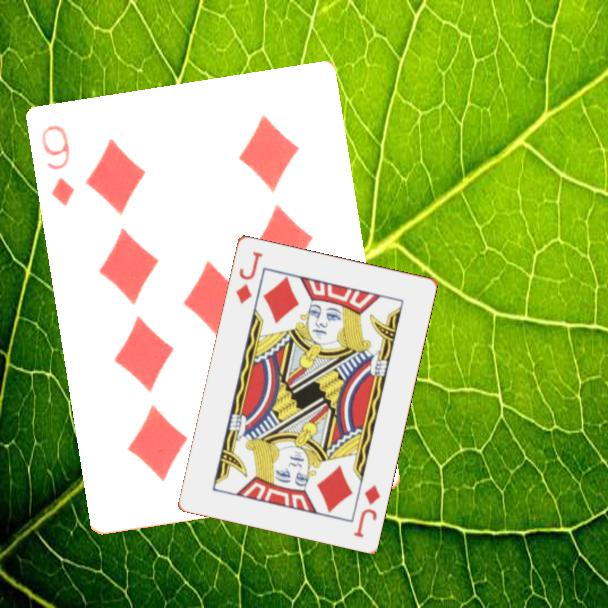d09: (38, 122, 78, 210)
d11: (232, 247, 265, 306), (350, 481, 383, 540)
